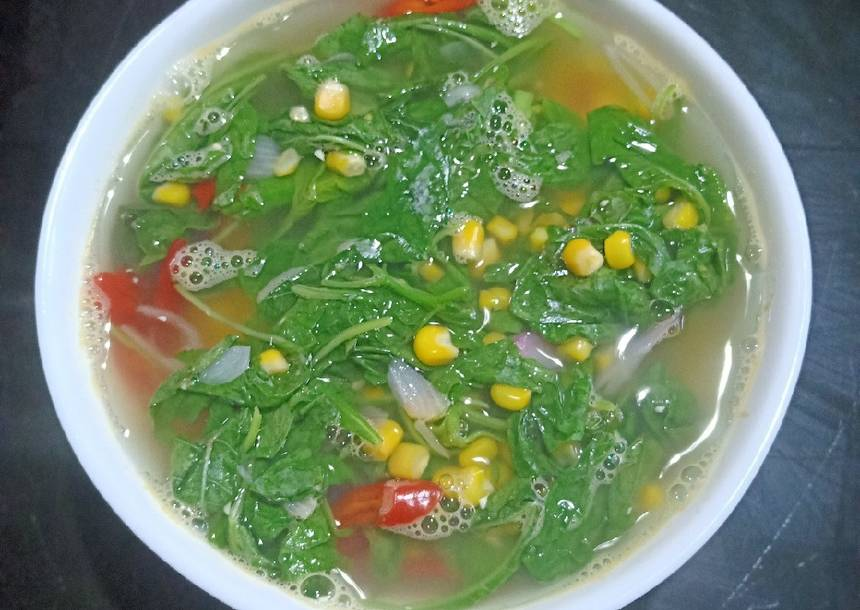Sayur Bayam: (60, 8, 808, 601)
